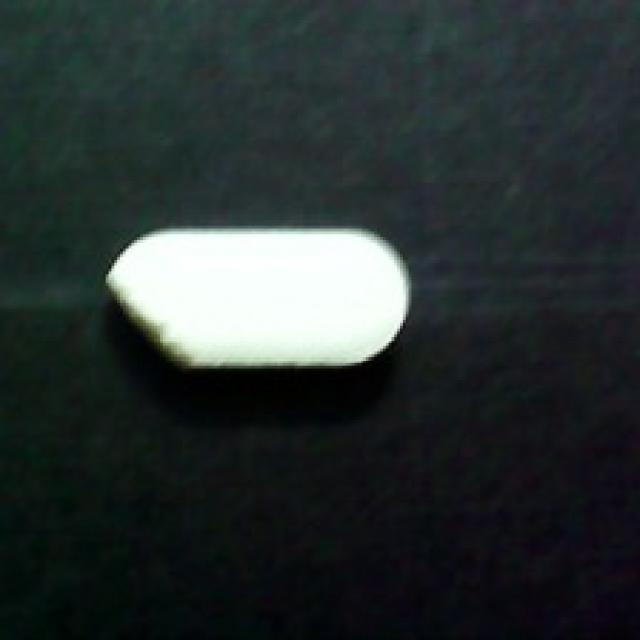defected: (94, 217, 411, 371)
